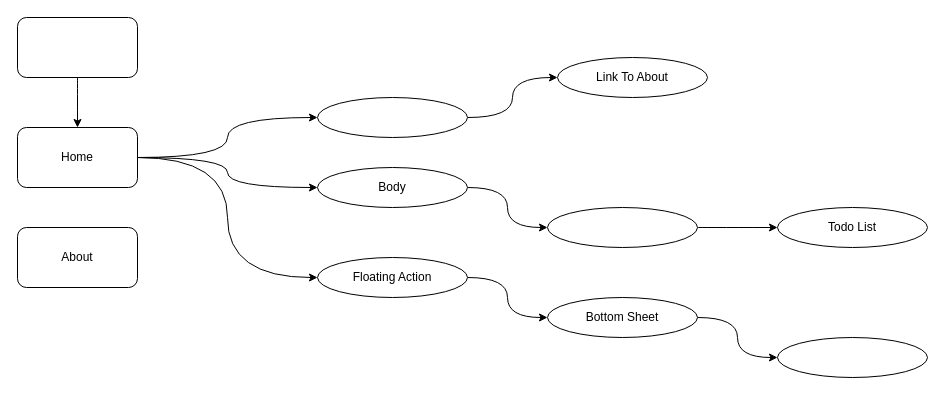
This 945x395 diagram has some shape labels left out. The centre of each missing label's shape, as x and y in pixels:
"Add Todo Form" goes at (852,357).
"Drawer" goes at (392,117).
"ListView" goes at (622,227).
"Splash Screen" goes at (77,47).
